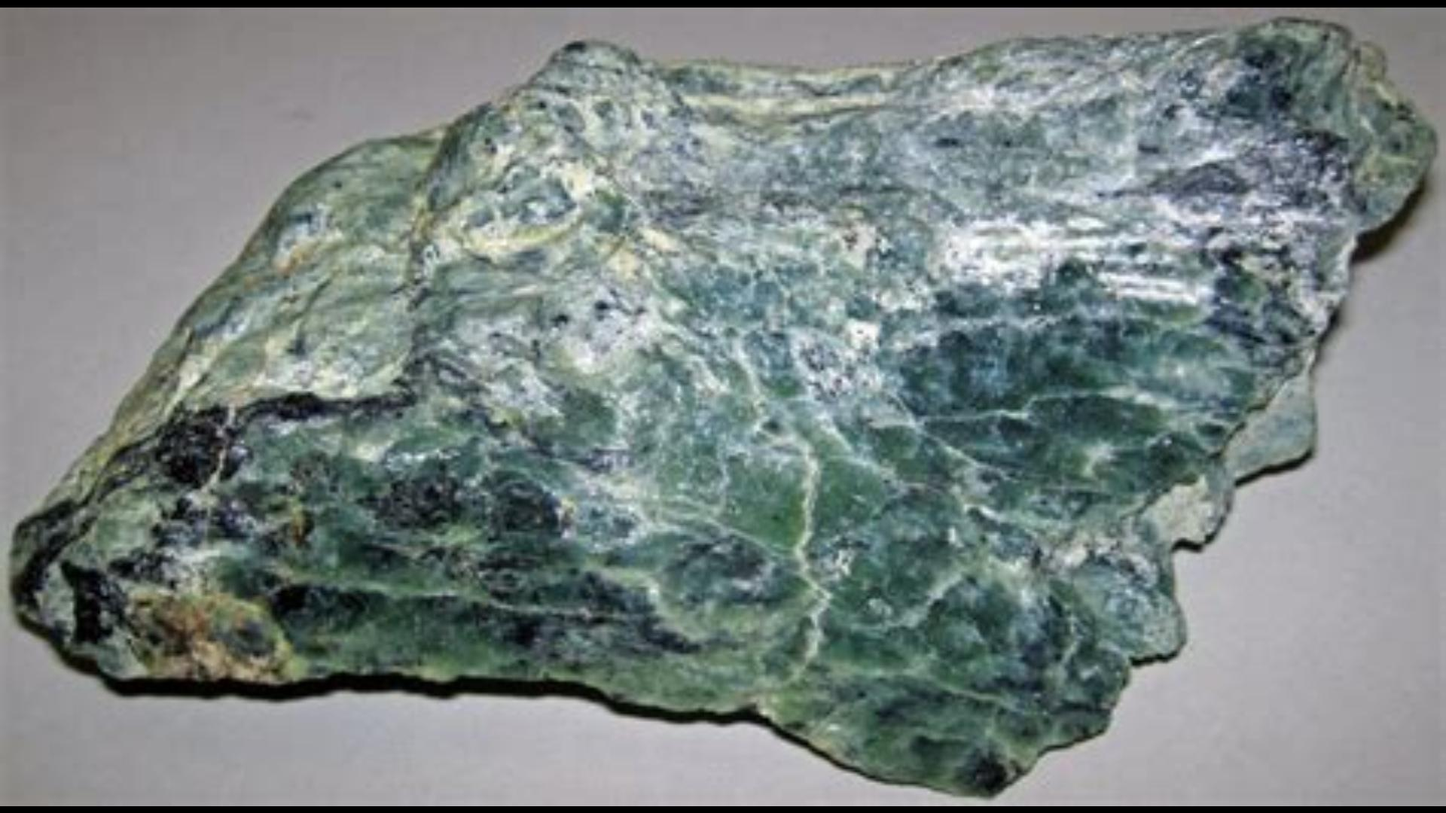rock: (15, 19, 1428, 793)
